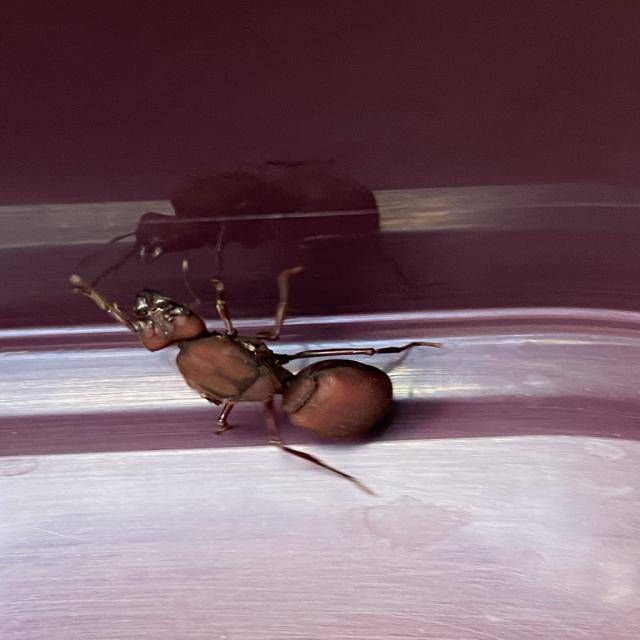Alive-Female-Dealate: (70, 258, 442, 498)
